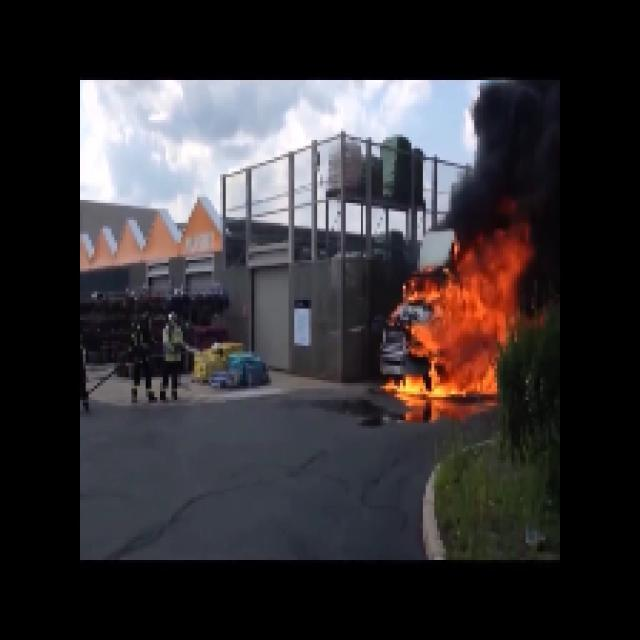Fire: (406, 244, 518, 403)
Smoke: (462, 88, 564, 224)
